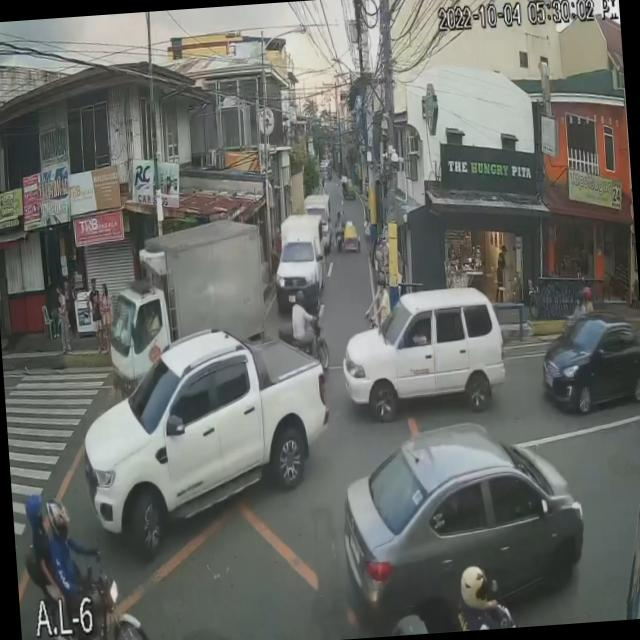full: (460, 564, 489, 614), (46, 499, 72, 546)
half: (22, 494, 46, 532)
